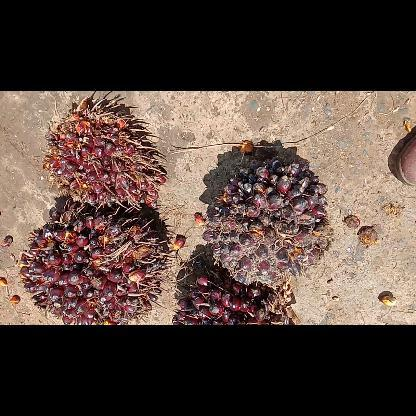Kurang masak: (16, 206, 186, 324), (201, 155, 328, 287), (43, 98, 164, 212), (173, 268, 281, 324)
